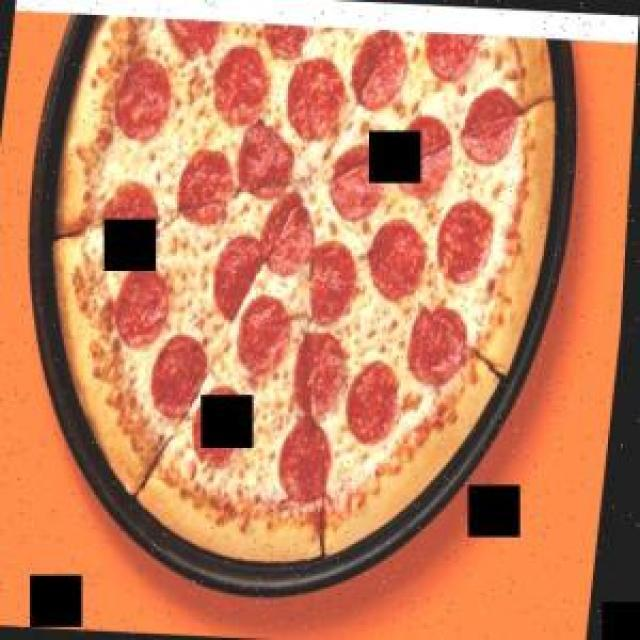Pizza: (0, 0, 597, 612)
